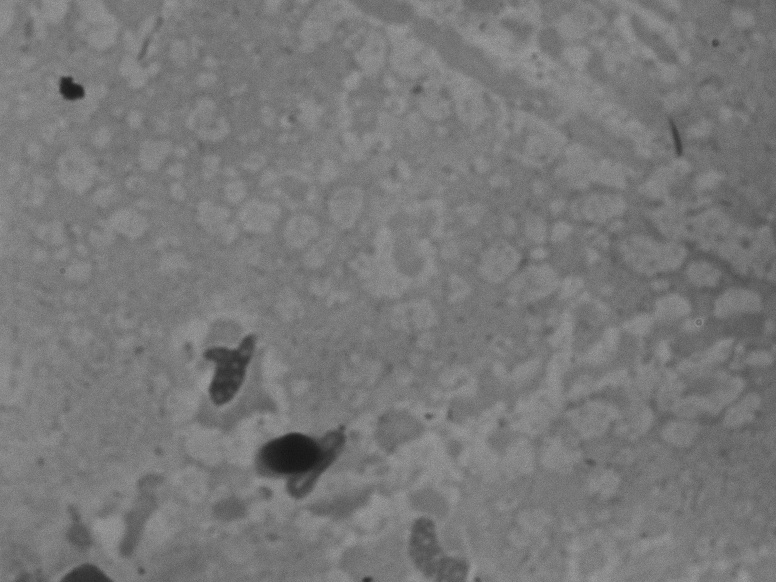Abnormal: (232, 414, 360, 515)
